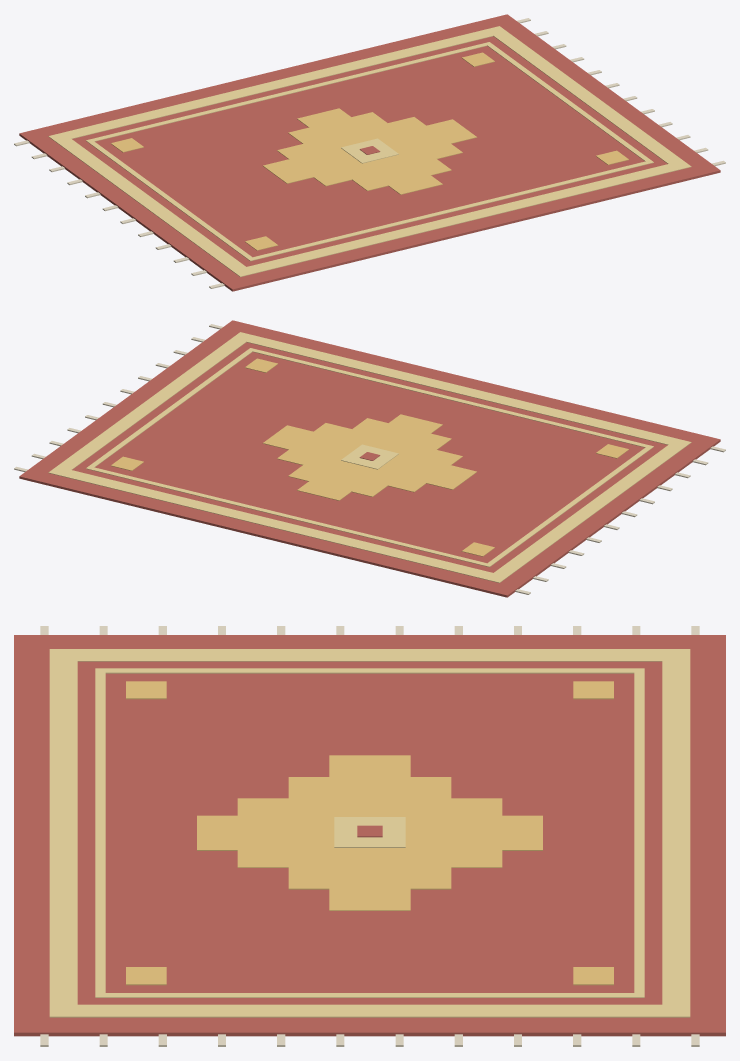
File: belly_rug.glb
3 renders of one model, top to bottom at view 1: azimuth 30°, elevation 25°; view 2: azimuth 150°, elevation 25°; view 3: azimuth 270°, elevation 25°, orthographic. The views are drawn at different scales.
Parts seen in each view (by area): view 1: BellyRug; view 2: BellyRug; view 3: BellyRug.
Part boxes in pixels (x1=…): BellyRug: x1=14, y1=14, x2=725, y2=291; BellyRug: x1=14, y1=320, x2=725, y2=597; BellyRug: x1=14, y1=626, x2=725, y2=1046.
Size of the model in its own units: 1.95 by 0.014 by 1.4.
